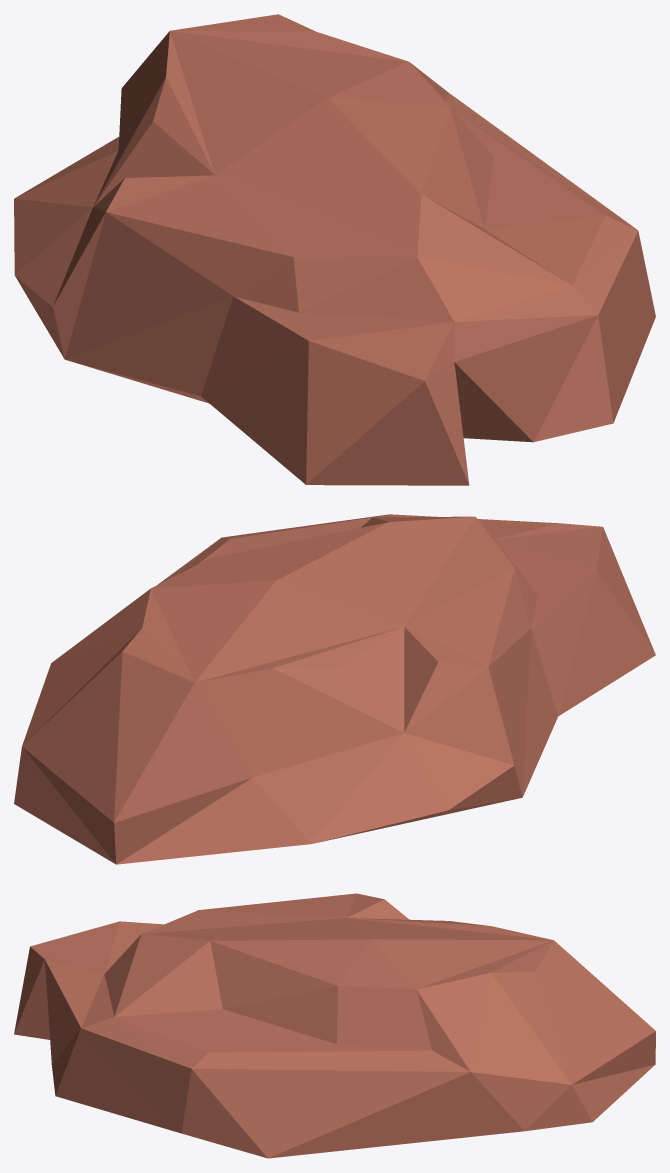
The model's file is rock_023.fbx.
3 renders of one model, top to bottom at view 1: azimuth 30°, elevation 25°; view 2: azimuth 150°, elevation 25°; view 3: azimuth 270°, elevation 25°, orthographic. The views are drawn at different scales.
Parts seen in each view (by area): view 1: rock_023; view 2: rock_023; view 3: rock_023.
Part boxes in pixels (left/top/right/bottom): rock_023: left=14, top=14, right=655, bottom=485; rock_023: left=14, top=514, right=655, bottom=864; rock_023: left=14, top=893, right=655, bottom=1158.
Size of the model in its own units: 491 by 735 by 173.
